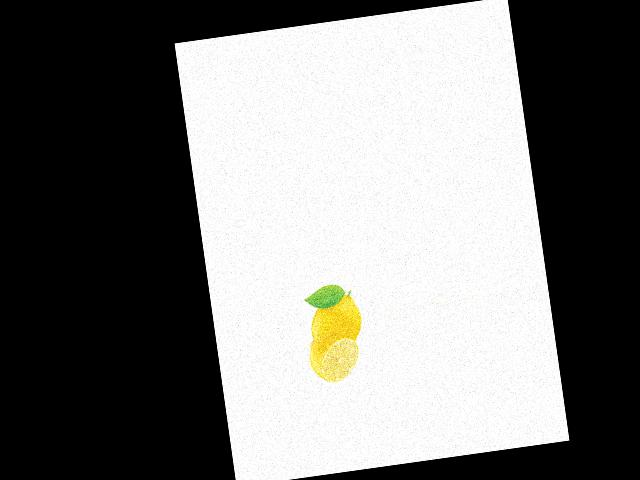lemon: (304, 287, 364, 347)
